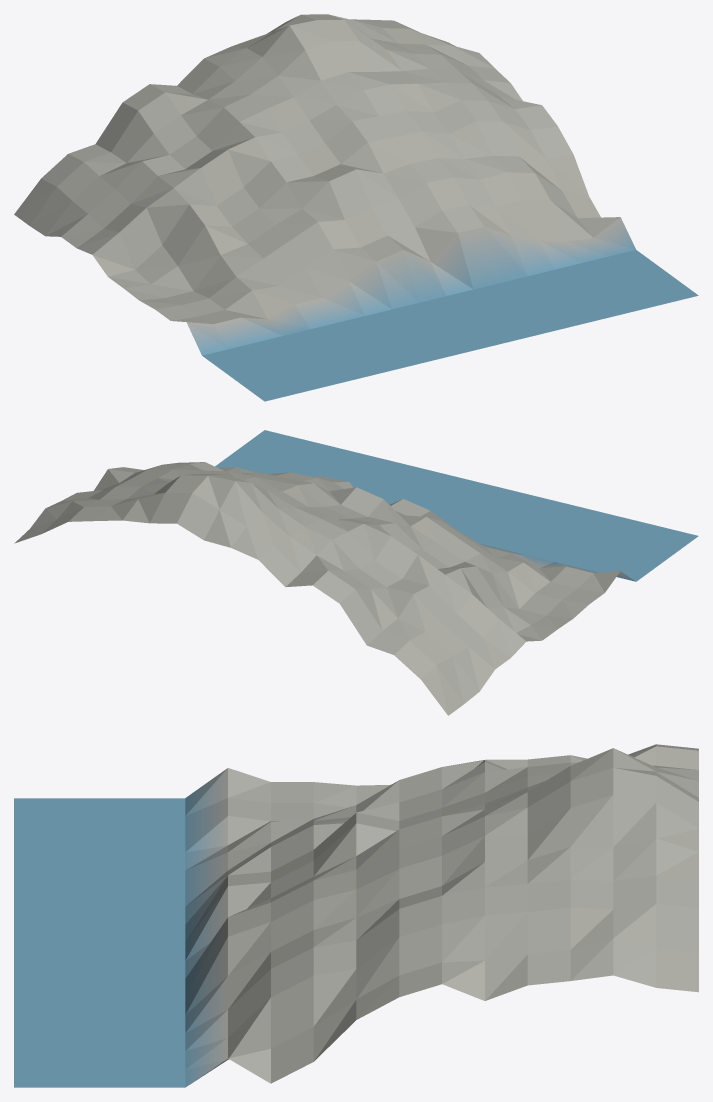
The picture shows the model from 3 angles, top to bottom: view 1: azimuth 30°, elevation 25°; view 2: azimuth 150°, elevation 25°; view 3: azimuth 270°, elevation 25°; orthographic projection. The views are drawn at different scales.
Size of the model in its own units: 32 by 10.98 by 32.
